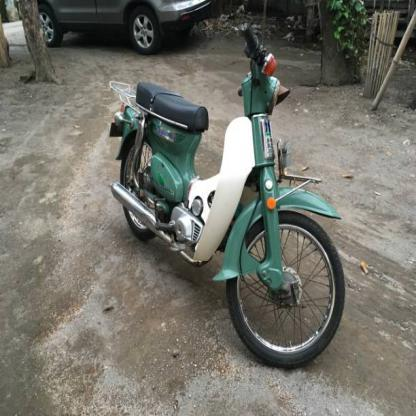Motorcycle: (101, 18, 359, 371)
